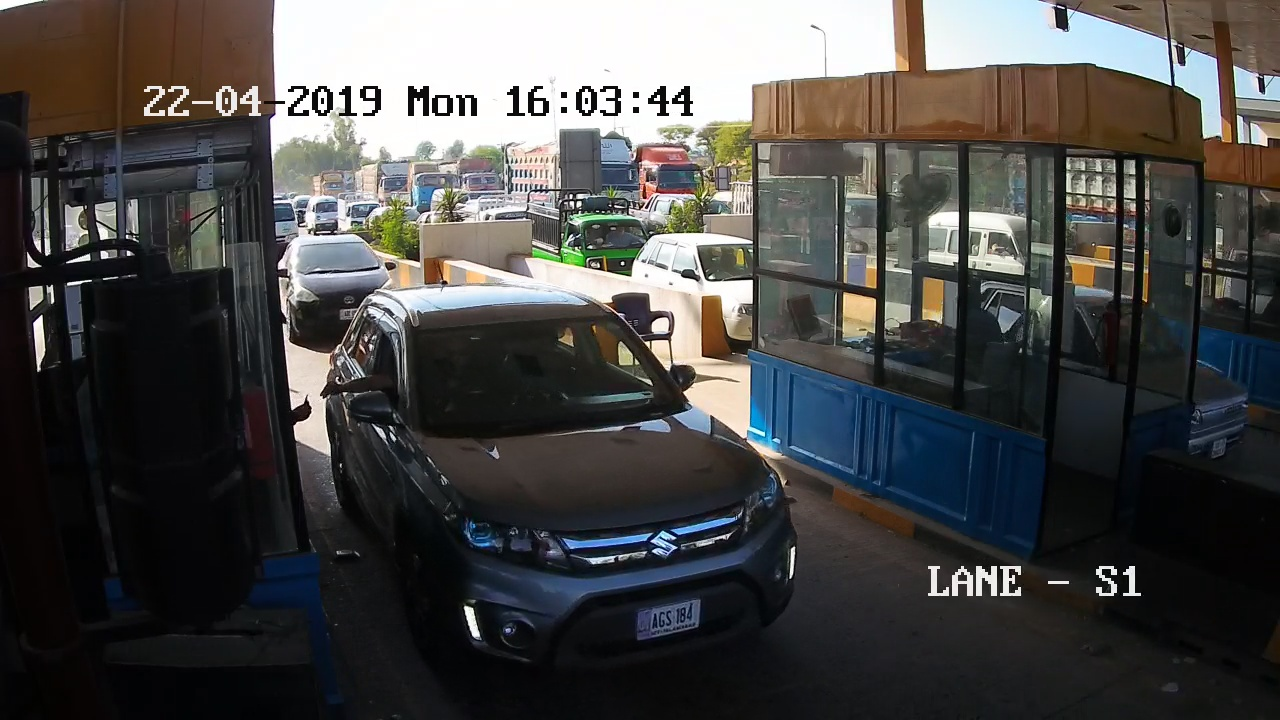Number Plate (Car): (636, 601, 702, 639)
